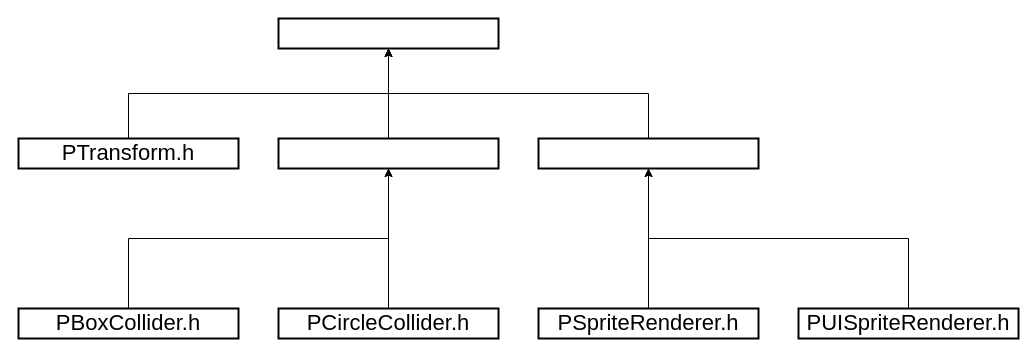
This 1036x356 diagram has some shape labels left out. Here are the shapes that lost their labels. From the top down, the centre of each, then its label:
At [388,33]: "PComponent.h".
At [388,153]: "PCollider.h".
At [648,153]: "PBasicSprite.h".
